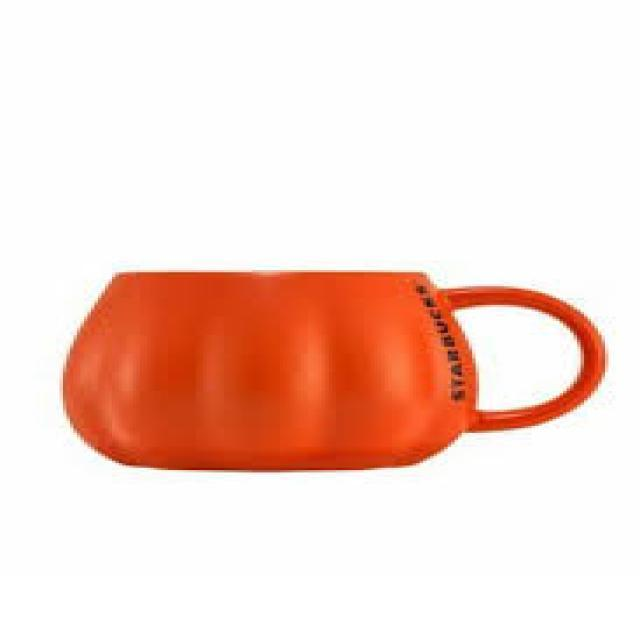taza: (58, 268, 606, 474)
